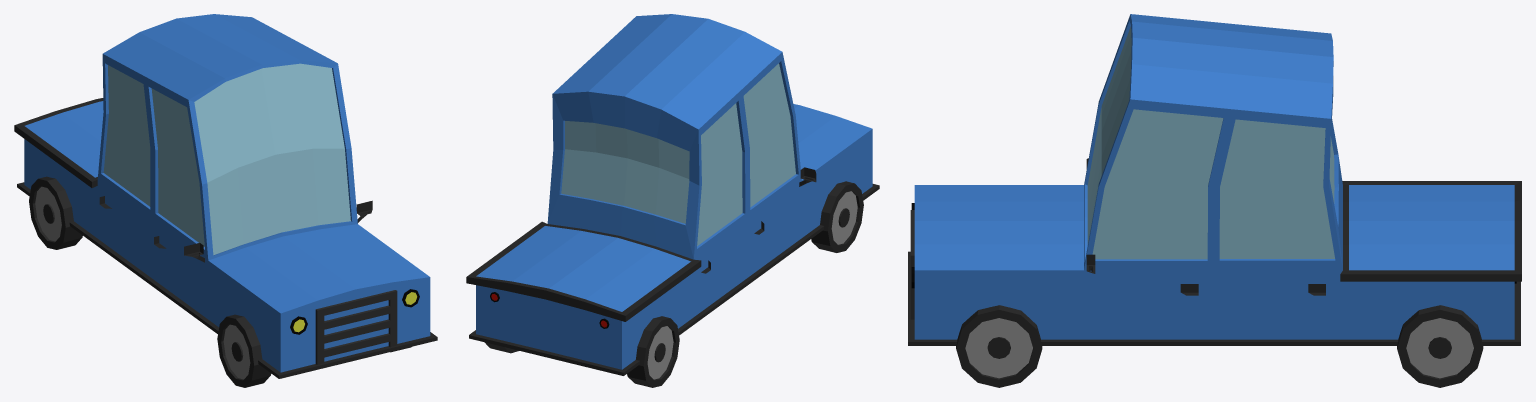
The model's file is car.fbx.
The picture shows the model from 3 angles, left to right: view 1: azimuth 30°, elevation 25°; view 2: azimuth 150°, elevation 25°; view 3: azimuth 270°, elevation 25°; orthographic projection. The views are drawn at different scales.
Parts seen in each view (by area): view 1: Cube, Cube.001, Cylinder; view 2: Cube; view 3: Cube.
Boxes of the visible parts, box(x1,y1,x2,y2) form: Cube: box(14, 14, 437, 387); Cube.001: box(315, 290, 397, 364); Cylinder: box(290, 289, 419, 334); Cube: box(466, 14, 879, 387); Cube: box(908, 14, 1521, 387).
Size of the model in its own units: 252 by 331 by 608.
